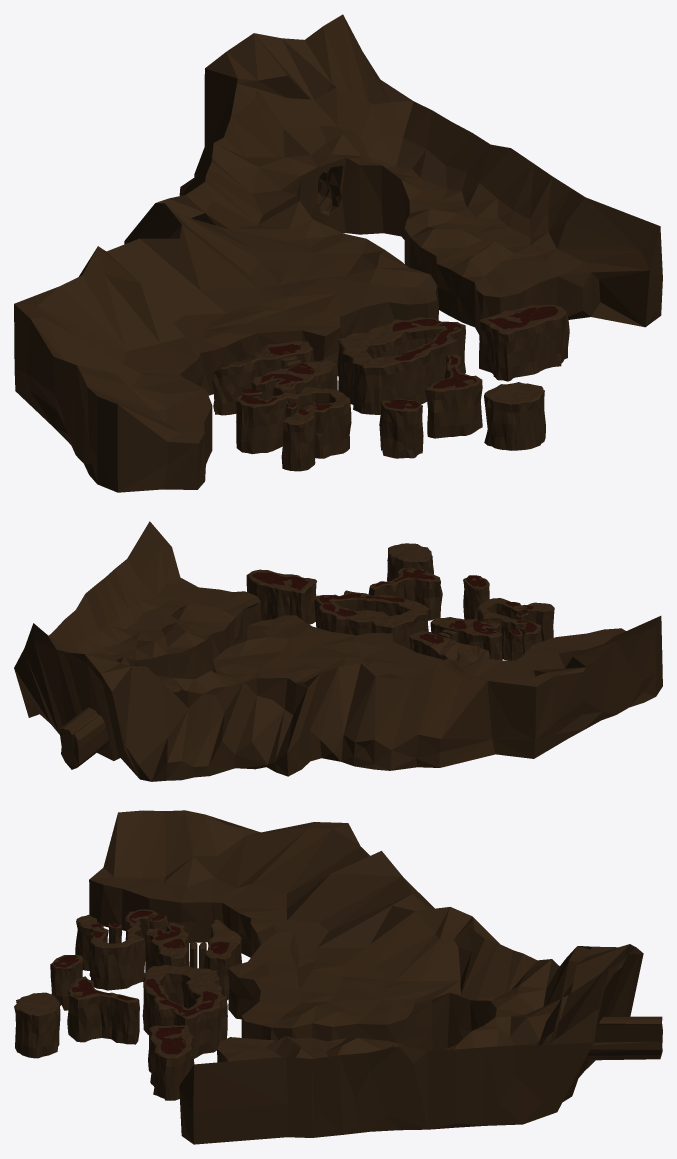
File: SwampAlphaLEVEL.FBX
The picture shows the model from 3 angles, top to bottom: view 1: azimuth 30°, elevation 25°; view 2: azimuth 150°, elevation 25°; view 3: azimuth 270°, elevation 25°; orthographic projection. The views are drawn at different scales.
Parts seen in each view (by area): view 1: SwampGround001, SwampGround012, SwampGround009, SwampGround013, SwampGroundIsland, SwampGround011, SwampGround002, SwampGround010, SwampGround005; view 2: SwampGround001, SwampGround012, SwampGround013, SwampGround009, SwampGround011, SwampGround005, SwampGround002, SwampGroundIsland, SwampGround010, SwampGround006; view 3: SwampGround001, SwampGround012, SwampGround009, SwampGround011, SwampGround013, SwampGroundIsland, SwampGround005, SwampGround002, SwampGround010.
Boxes of the visible parts, x1,y1,x2,y2 form: SwampGround001: [14, 14, 662, 492]; SwampGround012: [337, 317, 465, 414]; SwampGround009: [235, 386, 351, 471]; SwampGround013: [479, 304, 569, 381]; SwampGroundIsland: [484, 382, 545, 450]; SwampGround011: [424, 354, 482, 438]; SwampGround002: [212, 341, 313, 415]; SwampGround010: [379, 399, 423, 458]; SwampGround005: [251, 359, 337, 399]; SwampGround001: [14, 521, 662, 781]; SwampGround012: [314, 590, 429, 648]; SwampGround013: [246, 569, 316, 624]; SwampGround009: [477, 598, 554, 660]; SwampGround011: [368, 567, 442, 620]; SwampGround005: [430, 617, 502, 660]; SwampGround002: [409, 631, 489, 662]; SwampGroundIsland: [387, 543, 433, 581]; SwampGround010: [463, 575, 489, 619]; SwampGround006: [508, 628, 522, 660]; SwampGround001: [89, 810, 662, 1144]; SwampGround012: [142, 964, 227, 1058]; SwampGround009: [75, 909, 158, 990]; SwampGround011: [67, 976, 139, 1044]; SwampGround013: [148, 1025, 194, 1100]; SwampGroundIsland: [14, 992, 60, 1058]; SwampGround005: [145, 922, 189, 971]; SwampGround002: [203, 919, 241, 1000]; SwampGround010: [50, 955, 82, 1010].
Size of the model in its own units: 1129 by 289 by 1192.
